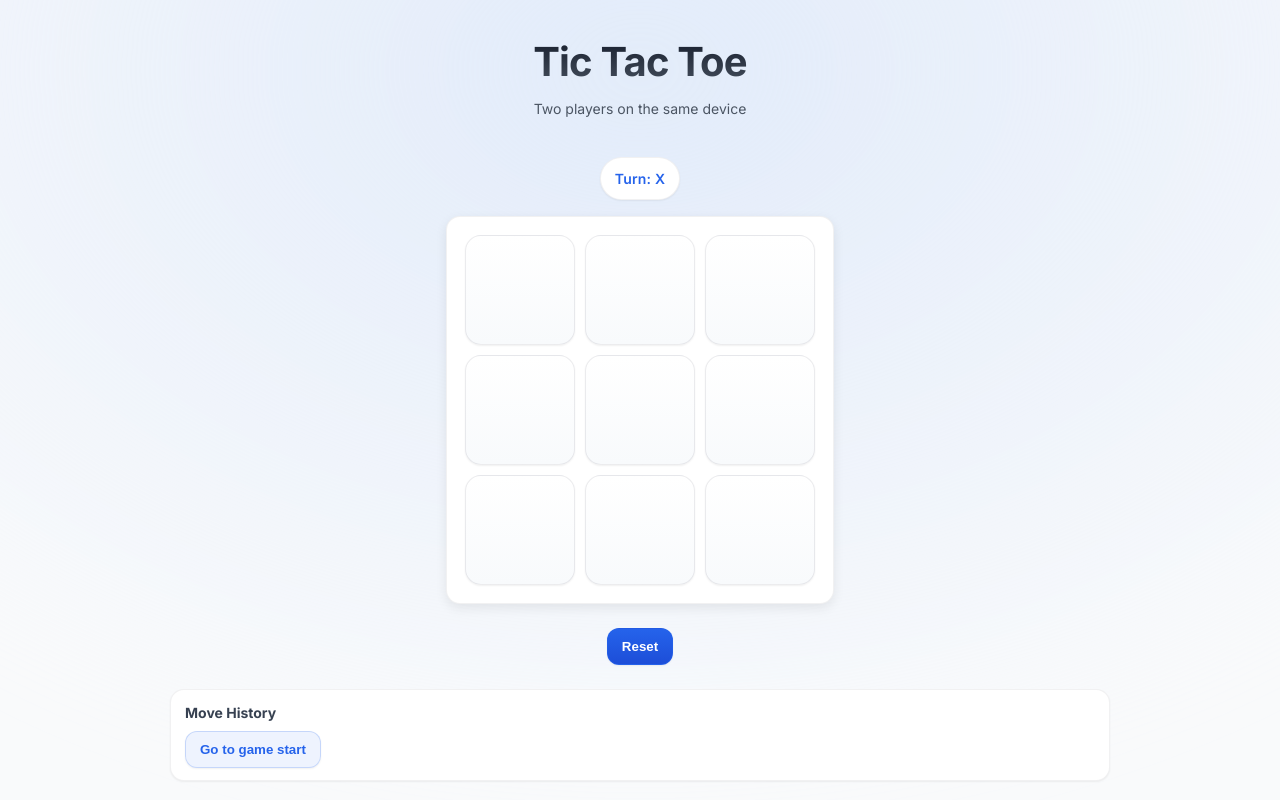
Test: Tic Tac Toe App › shows initial turn and updates on move
This screenshot has width=1280, height=800.
Expected: the text "Turn: X" is shown, [600,157,680,200]
Click the button named "Square row".
click(520, 290)  # box [465,235,575,345]
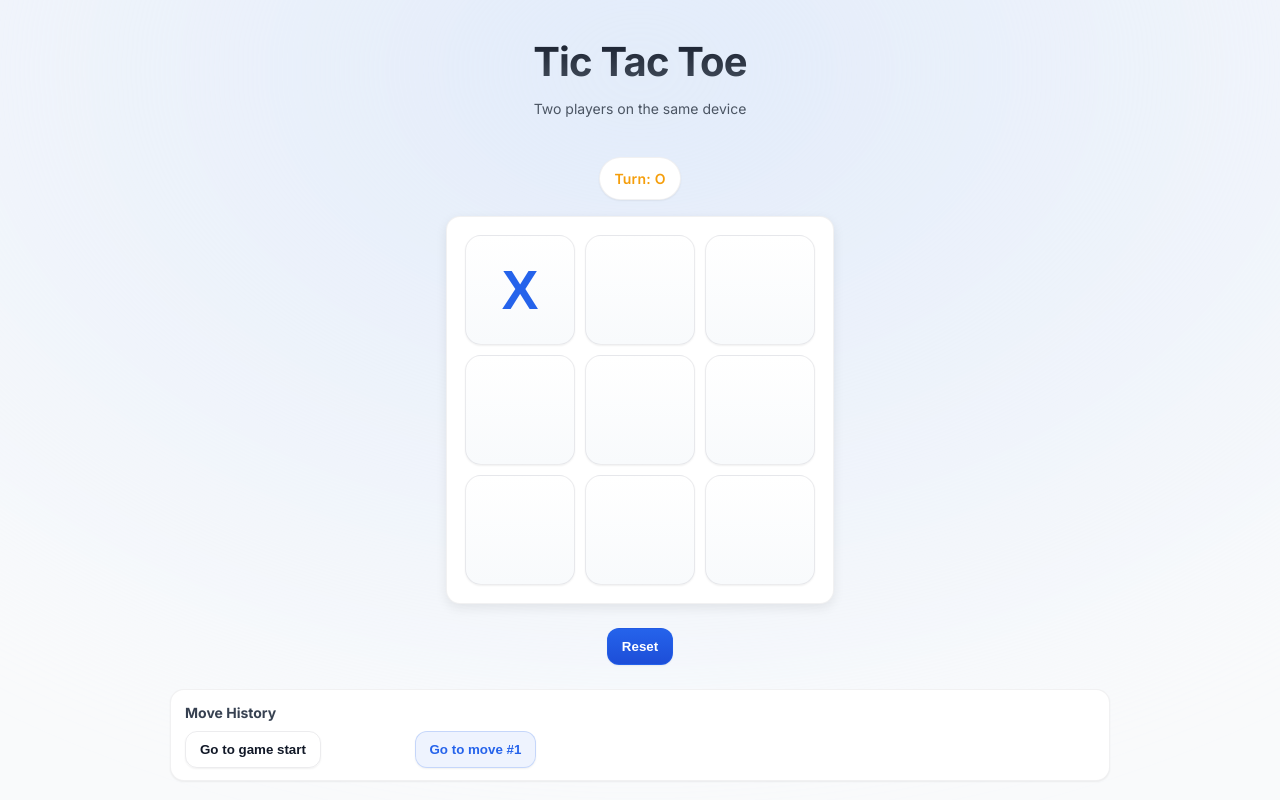
Expected: the text "Turn: O" is shown, [599,157,681,200]
